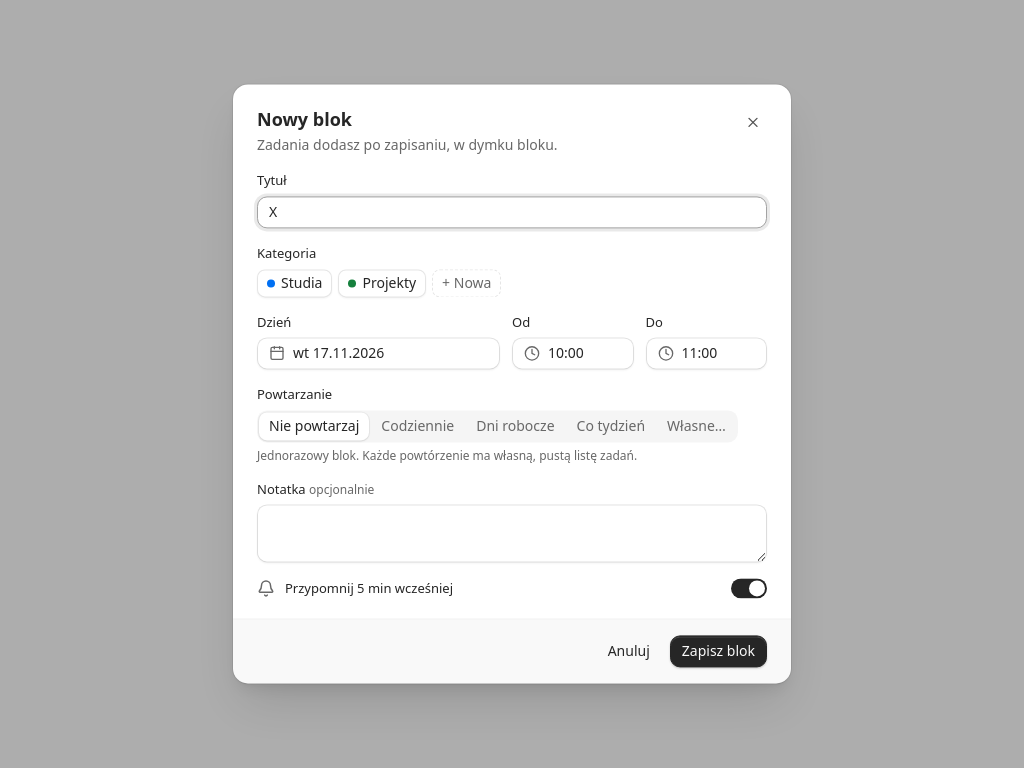
BlockDialog › błąd akcji pokazuje komunikat i nie zamyka okna
Click the button "Zapisz blok" at (718, 652), box top-left (670, 636), bottom-right (767, 668)
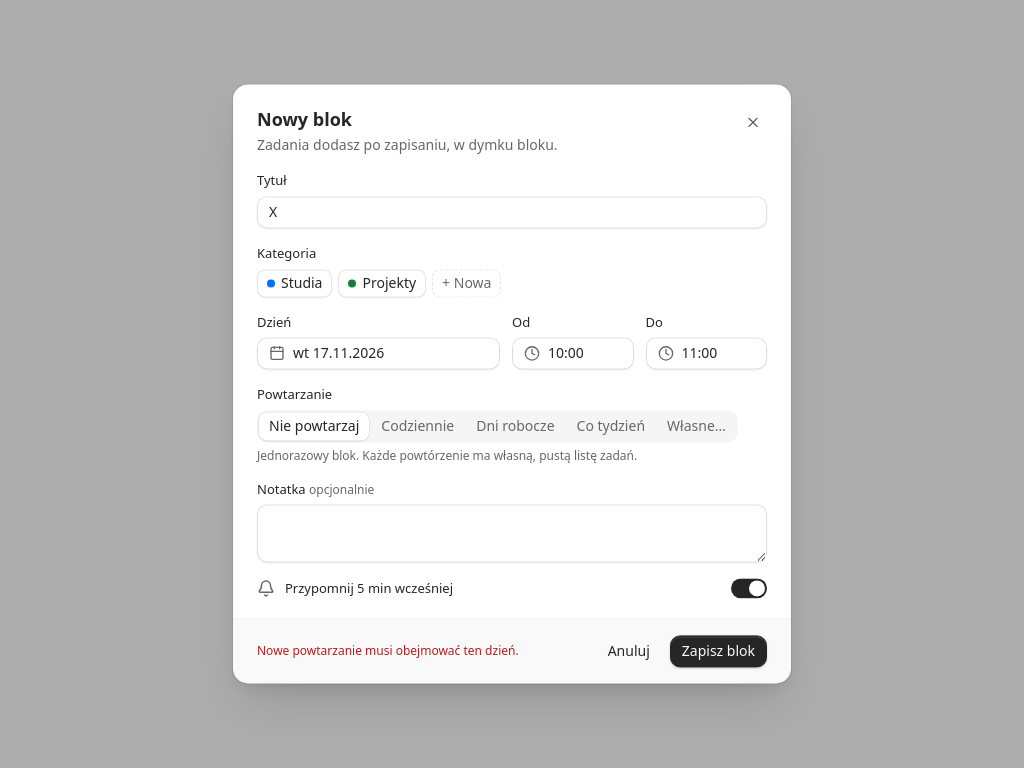
Expected: the text "Nowe powtarzanie musi obejmować ten dzień." is shown, top-left (257, 644), bottom-right (519, 660)
